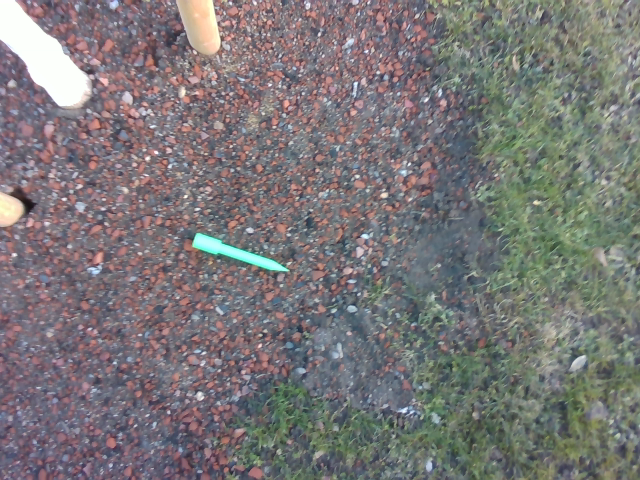Probe: (189, 227, 297, 275)
